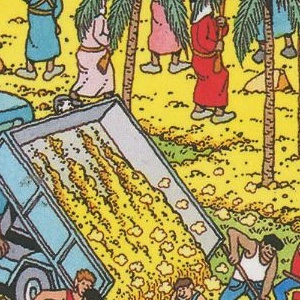Charlie: (131, 98, 169, 202)
